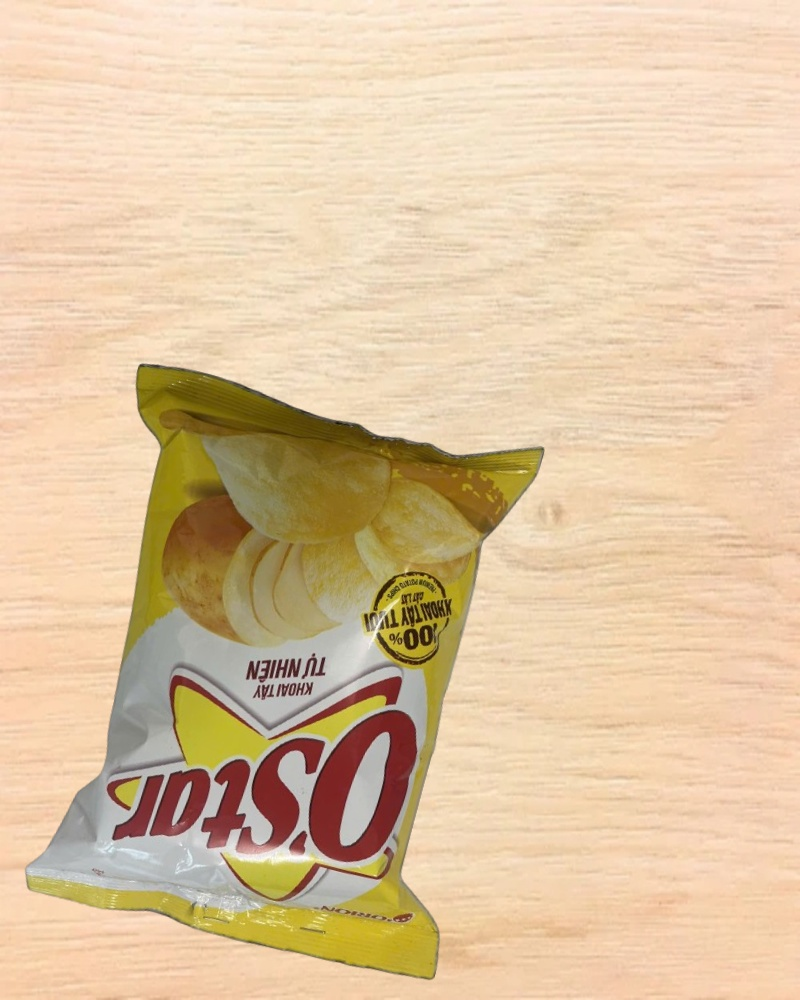Snack cua: (7, 349, 570, 991)
